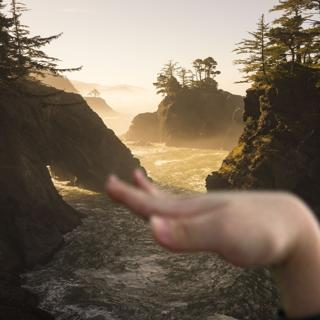Wait: (97, 162, 320, 273)
